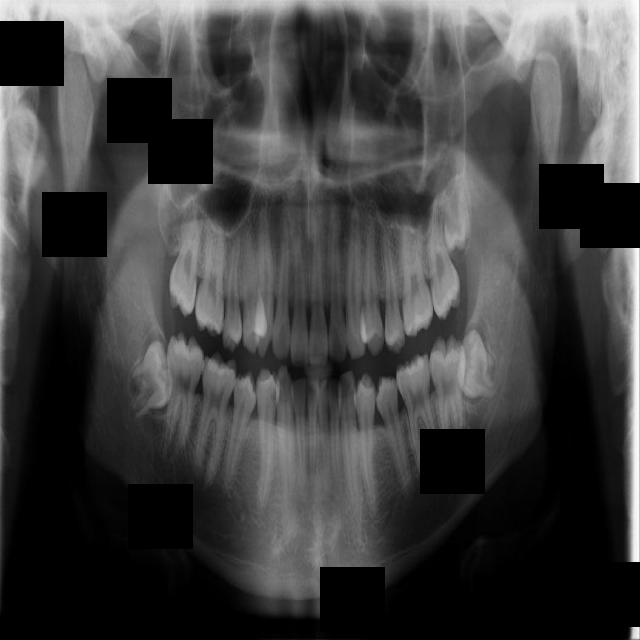52: (191, 346, 243, 405)
73: (612, 588, 617, 598)
BioHorizons Implant: (417, 181, 464, 321)
BioLife Implant: (439, 150, 473, 253)
Biomet 3i Implant: (451, 328, 499, 401)
Blue Sky Bio Implant: (429, 335, 467, 463)
Caries: (163, 184, 215, 319)
Implant: (160, 331, 206, 465)
Keystone Dental Implant: (129, 341, 175, 420)
